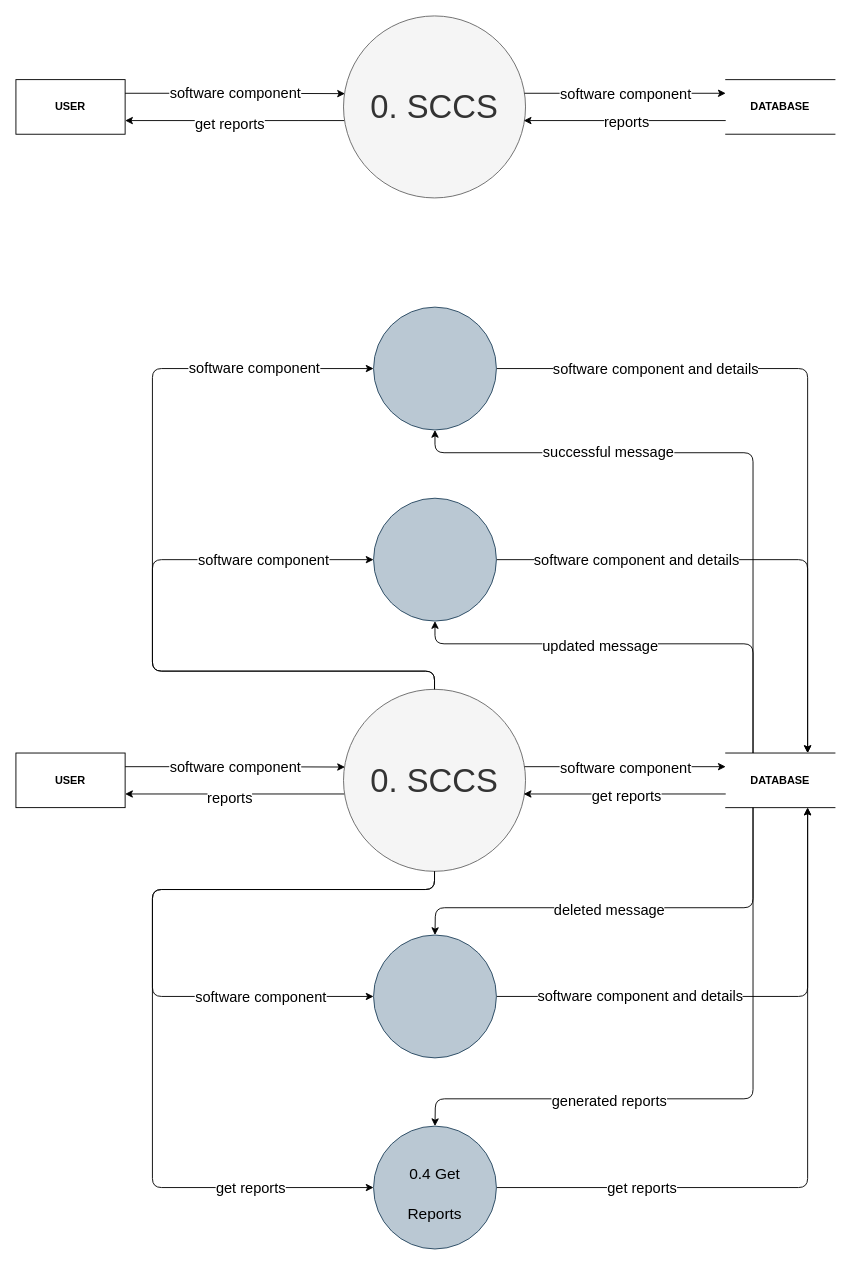
Image size: 851x1265. Some labels were removed from this diagram. The shapes that lost their labels are listed below. From the top down, each one's centre as x and y in pixels, then its label:
At (434,368): "0.1 Add Component".
At (434,559): "0.2 Modify Component".
At (434,996): "0.3 Delete Component".
